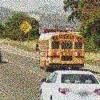buses: (38, 34, 86, 68)
